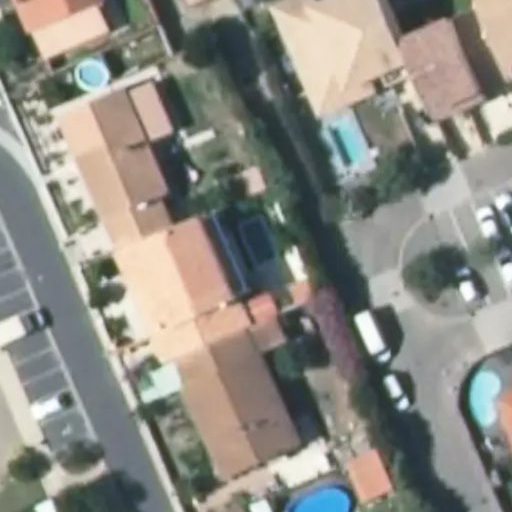pool: (466, 368, 505, 425), (244, 218, 284, 265), (330, 118, 369, 165), (288, 485, 352, 512), (78, 61, 109, 91)
